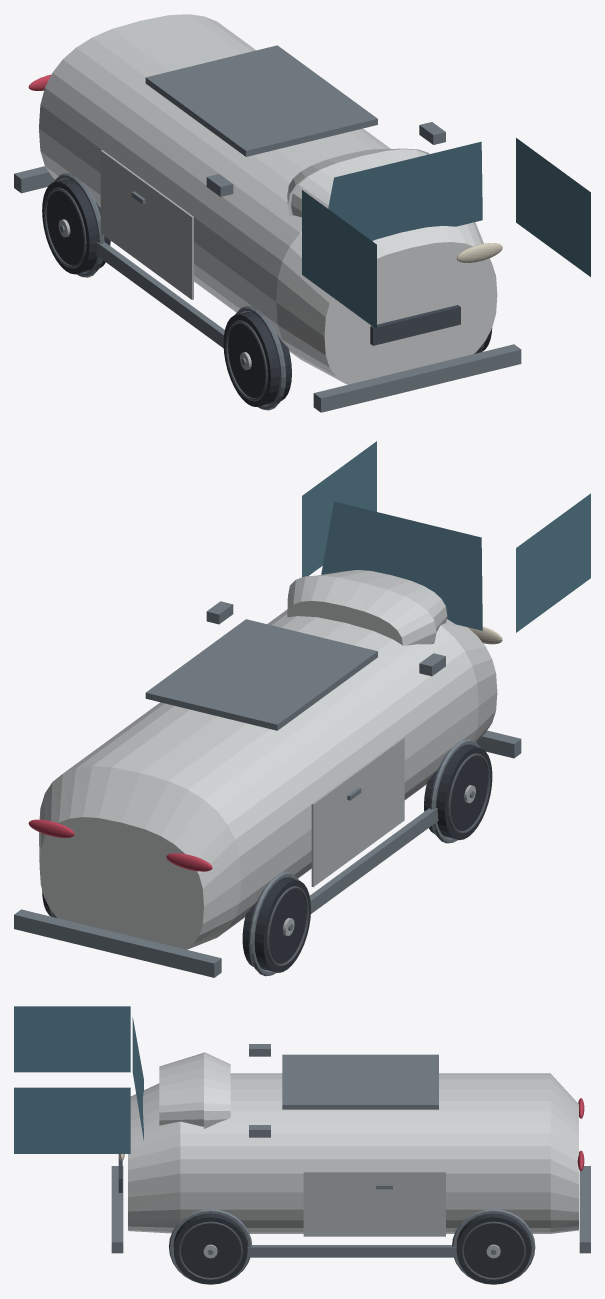
File: van.glb
The picture shows the model from 3 angles, top to bottom: view 1: azimuth 30°, elevation 25°; view 2: azimuth 150°, elevation 25°; view 3: azimuth 270°, elevation 25°; orthographic projection. The views are drawn at different scales.
Visible parts, largest first — view 1: van_body, van_roof_rack, van_windshield, van_side_panel_-1, van_side_window_-1, van_side_window_1, van_front_bumper, van_wheel_-1_1_tire_core, van_wheel_-1_0_tire_core, van_roof_shell, van_side_skirt_-1, van_front_grille (+6 smaller); view 2: van_body, van_roof_rack, van_windshield, van_roof_shell, van_side_panel_-1, van_side_window_-1, van_side_window_1, van_rear_bumper, van_wheel_-1_0_tire_core, van_wheel_-1_1_tire_core, van_side_skirt_-1, van_arch_-1_0 (+2 smaller); view 3: van_body, van_side_panel_1, van_roof_rack, van_side_window_-1, van_side_window_1, van_roof_shell, van_wheel_1_0_tire_core, van_wheel_1_1_tire_core, van_side_skirt_1, van_front_bumper, van_rear_bumper, van_arch_1_0 (+4 smaller).
Part boxes in pixels (x1,y1,x2,y2): van_body: [39, 14, 497, 384]; van_roof_rack: [145, 45, 377, 156]; van_windshield: [328, 141, 482, 240]; van_side_panel_-1: [100, 150, 193, 299]; van_side_window_-1: [302, 190, 376, 329]; van_side_window_1: [516, 138, 590, 276]; van_front_bumper: [313, 344, 521, 412]; van_wheel_-1_1_tire_core: [223, 312, 291, 406]; van_wheel_-1_0_tire_core: [42, 179, 110, 274]; van_roof_shell: [287, 148, 429, 217]; van_side_skirt_-1: [96, 242, 224, 347]; van_front_grille: [370, 305, 460, 345]; van_body: [39, 609, 497, 949]; van_roof_rack: [145, 619, 377, 730]; van_windshield: [321, 501, 482, 630]; van_roof_shell: [287, 570, 447, 645]; van_side_panel_-1: [311, 737, 404, 887]; van_side_window_-1: [516, 493, 590, 632]; van_side_window_1: [302, 441, 376, 577]; van_rear_bumper: [14, 909, 221, 977]; van_wheel_-1_0_tire_core: [242, 877, 310, 972]; van_wheel_-1_1_tire_core: [424, 745, 492, 840]; van_side_skirt_-1: [309, 808, 438, 913]; van_arch_-1_0: [248, 871, 299, 976]; van_body: [128, 1073, 578, 1233]; van_side_panel_1: [303, 1171, 445, 1236]; van_roof_rack: [282, 1054, 438, 1109]; van_side_window_-1: [14, 1006, 130, 1072]; van_side_window_1: [14, 1087, 130, 1153]; van_roof_shell: [159, 1052, 230, 1128]; van_wheel_1_0_tire_core: [456, 1213, 530, 1284]; van_wheel_1_1_tire_core: [173, 1213, 247, 1284]; van_side_skirt_1: [247, 1245, 457, 1257]; van_front_bumper: [111, 1166, 123, 1253]; van_rear_bumper: [579, 1166, 590, 1253]; van_arch_1_0: [452, 1209, 535, 1284].
Size of the model in its own units: 2.18 by 2.35 by 6.08.
